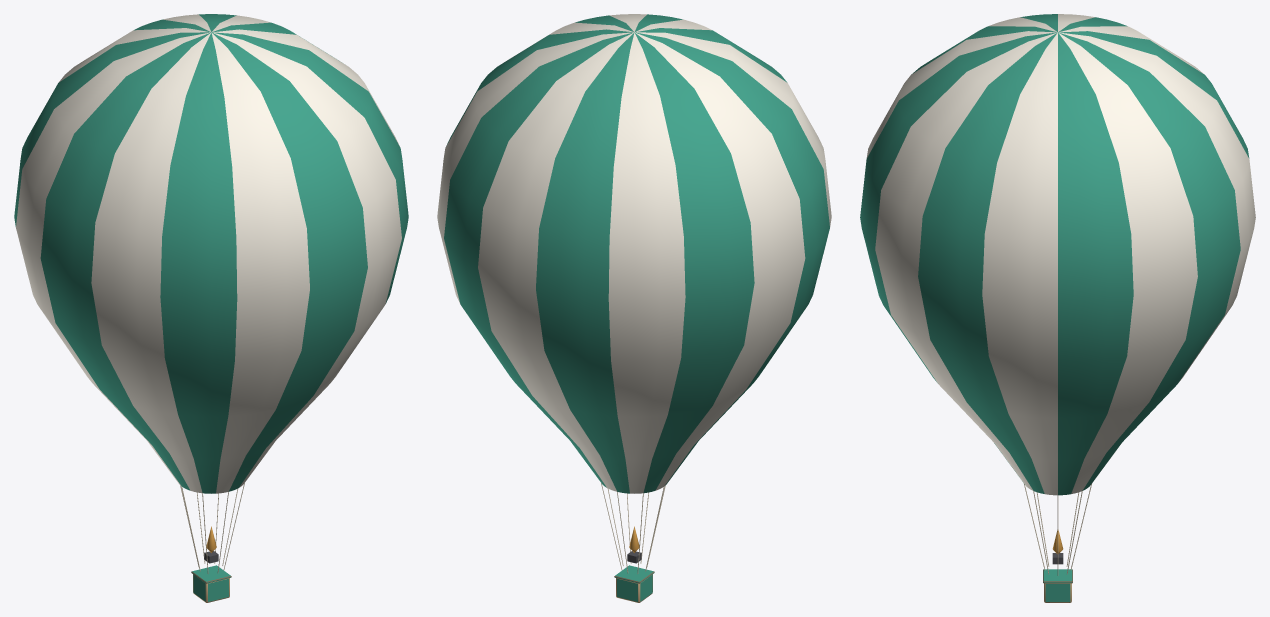
The model's file is SM_HotAirBalloon.fbx.
The picture shows the model from 3 angles, left to right: view 1: azimuth 30°, elevation 25°; view 2: azimuth 150°, elevation 25°; view 3: azimuth 270°, elevation 25°; orthographic projection.
Visible parts, largest first — view 1: SM_HotAirBalloon; view 2: SM_HotAirBalloon; view 3: SM_HotAirBalloon.
Boxes of the visible parts, x1,y1,x2,y2 form: SM_HotAirBalloon: (14, 14, 408, 602); SM_HotAirBalloon: (437, 14, 831, 602); SM_HotAirBalloon: (860, 14, 1255, 602).
Bounding box in the file's own units: 1840 × 2900 × 1840.
